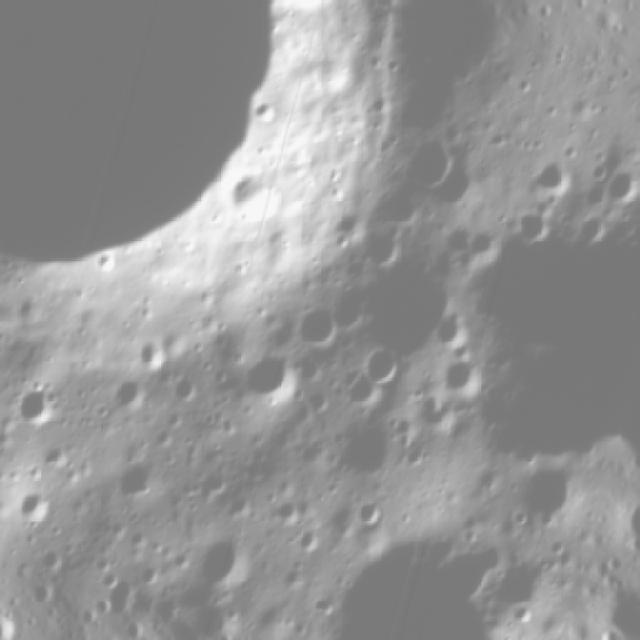crater: (0, 0, 440, 457), (326, 399, 414, 504), (502, 447, 592, 538), (391, 122, 478, 207), (182, 519, 263, 601), (229, 342, 309, 420), (320, 269, 386, 337), (525, 138, 589, 208), (285, 293, 349, 362), (99, 458, 168, 522), (8, 372, 75, 434), (432, 347, 491, 404), (508, 194, 564, 248), (353, 334, 407, 388), (8, 480, 62, 534), (570, 201, 622, 254), (595, 151, 640, 211), (349, 489, 393, 531)
